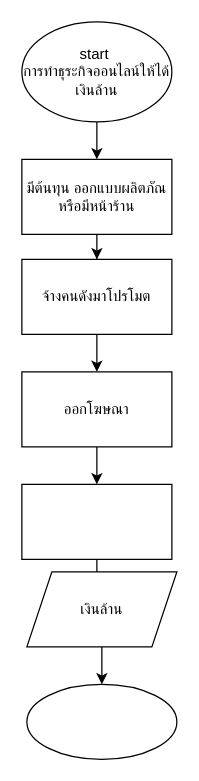
This 199x781 diagram has some shape labels left out. Here are the shapes that lost their labels. From the top down, the box of each, then its label:
(21, 483, 172, 559): ขยายกิจการ
(26, 683, 177, 759): end
